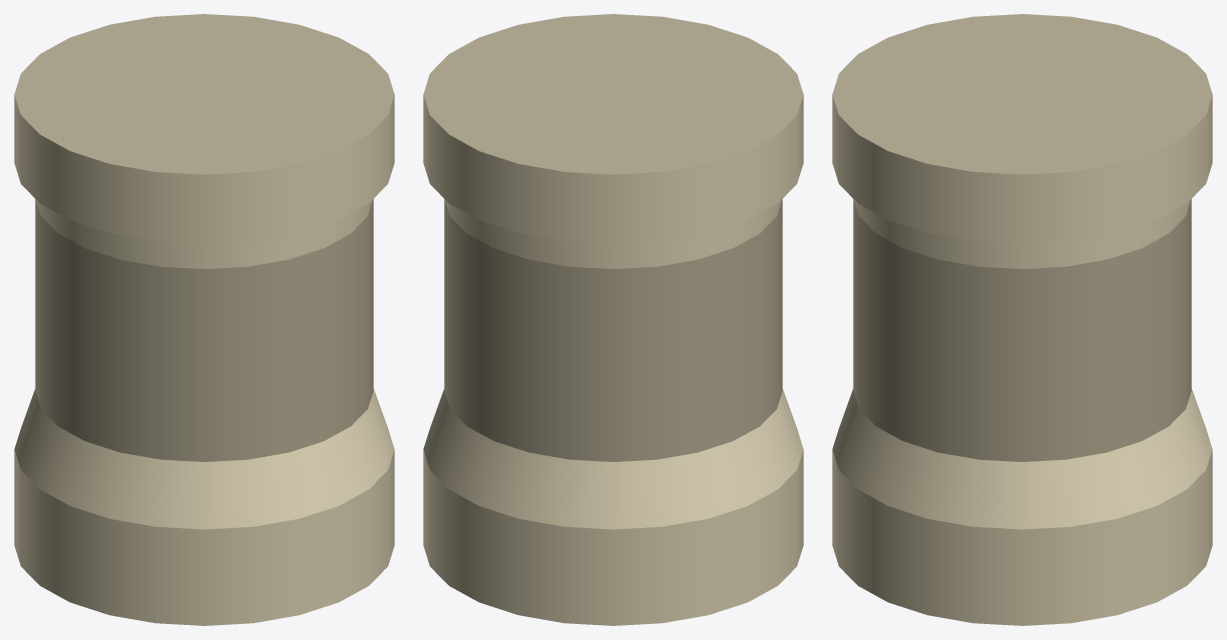
File: towerBase.fbx
The picture shows the model from 3 angles, left to right: view 1: azimuth 30°, elevation 25°; view 2: azimuth 150°, elevation 25°; view 3: azimuth 270°, elevation 25°; orthographic projection.
Visible parts, largest first — view 1: towerBase; view 2: towerBase; view 3: towerBase.
Boxes of the visible parts, x1,y1,x2,y2 form: towerBase: [14, 14, 394, 625]; towerBase: [423, 14, 803, 625]; towerBase: [832, 14, 1212, 625].
Bounding box in the file's own units: 10 × 13.1 × 10.
